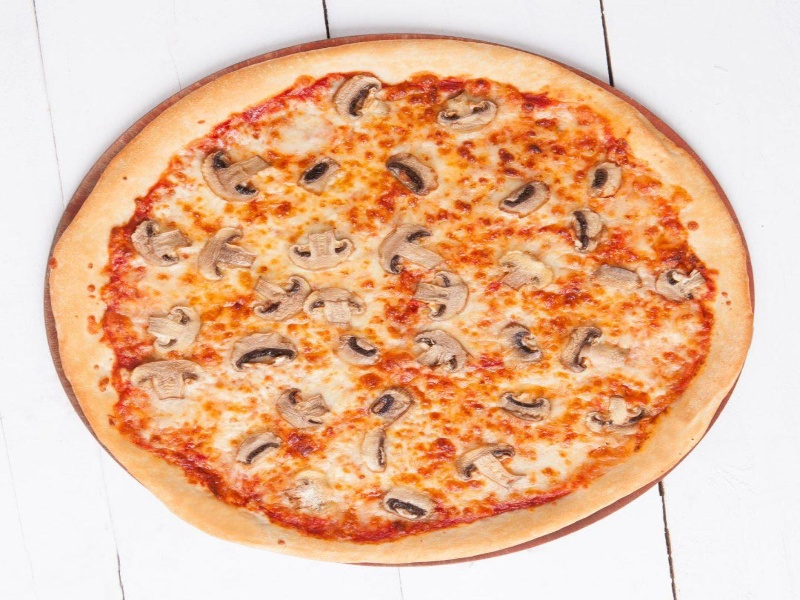champignon: (195, 142, 274, 208), (129, 359, 220, 405), (140, 301, 208, 358), (127, 213, 190, 273), (454, 437, 528, 488), (224, 329, 305, 375), (198, 227, 260, 287), (284, 227, 361, 275), (408, 270, 474, 324), (271, 385, 340, 434), (304, 280, 373, 328), (328, 65, 385, 123), (583, 393, 654, 438), (409, 327, 470, 377), (433, 91, 502, 134), (498, 247, 555, 295), (385, 151, 442, 198), (492, 321, 545, 370), (497, 179, 554, 218), (583, 156, 631, 202), (495, 392, 557, 425)
